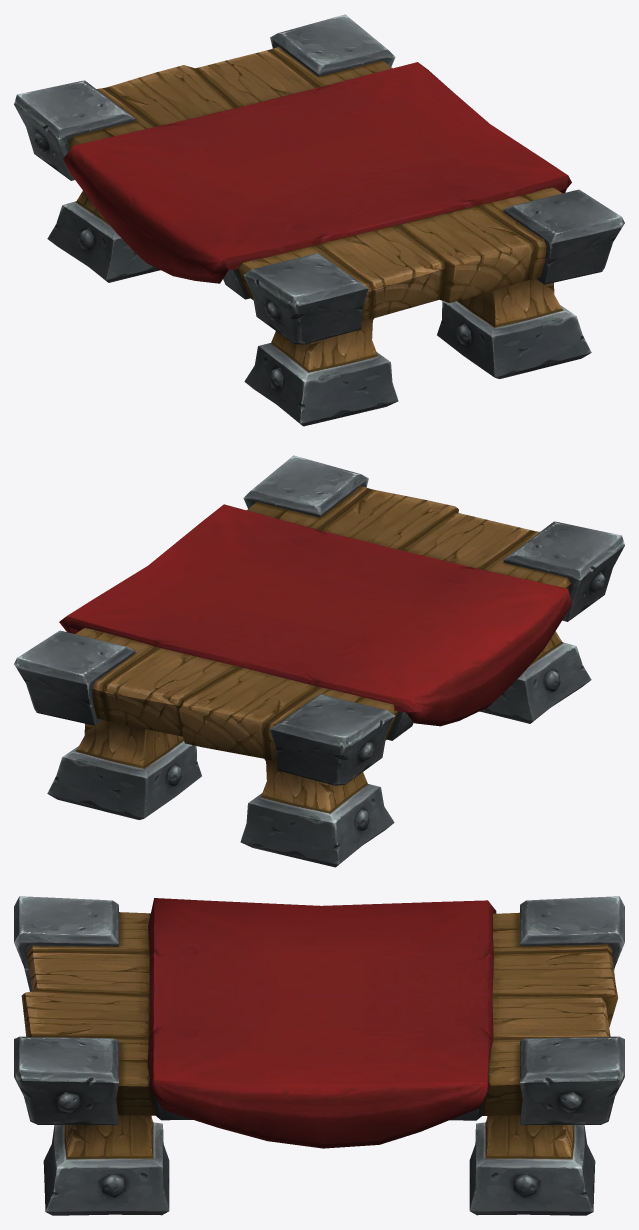
3 renders of one model, top to bottom at view 1: azimuth 30°, elevation 25°; view 2: azimuth 150°, elevation 25°; view 3: azimuth 270°, elevation 25°, orthographic. The views are drawn at different scales.
Bounding box in the file's own units: 2.52 × 0.9735 × 3.38.
2 materials, 2 textured.
